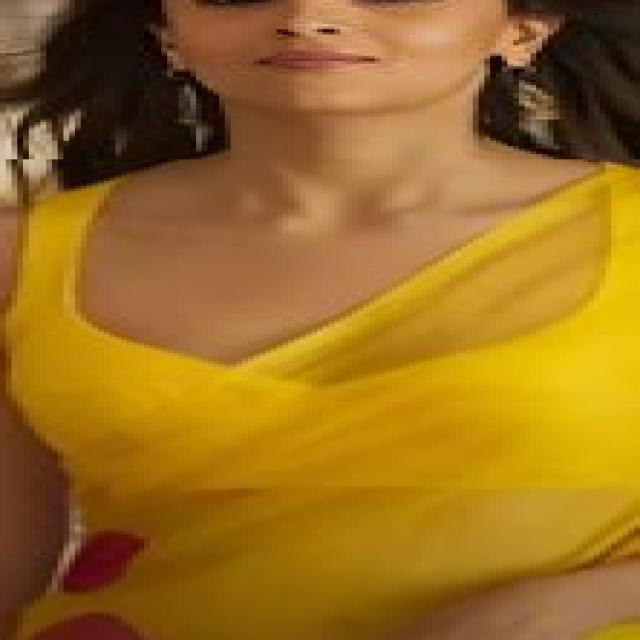Saree: (0, 159, 640, 640)
